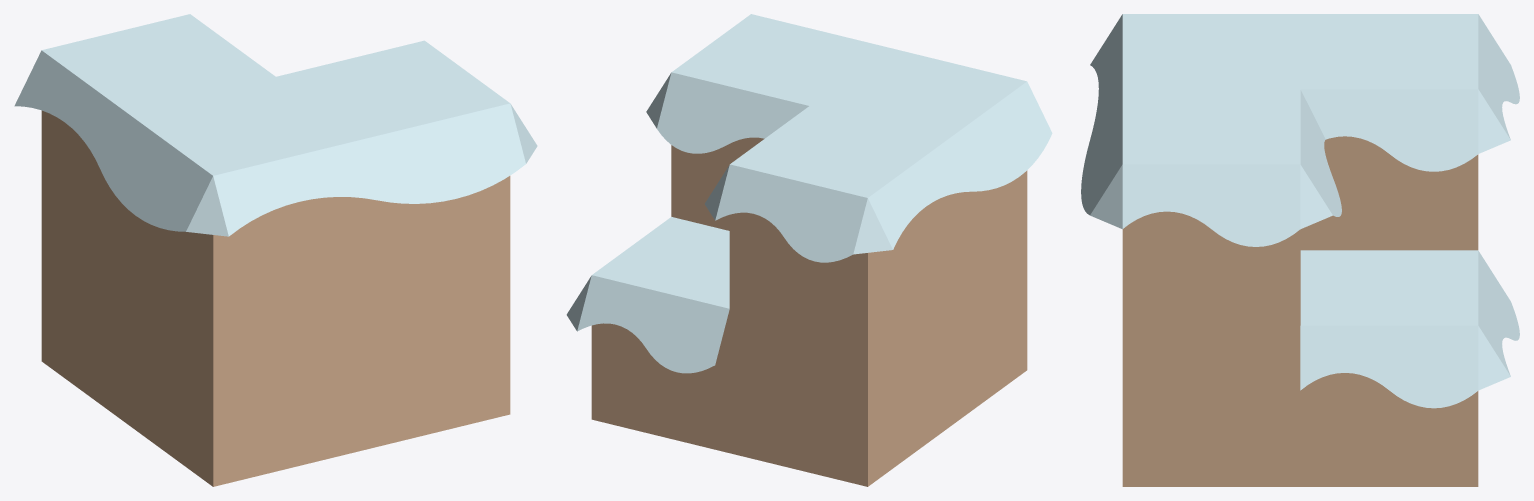
File: blockSnowLevel.glb
The picture shows the model from 3 angles, left to right: view 1: azimuth 30°, elevation 25°; view 2: azimuth 150°, elevation 25°; view 3: azimuth 270°, elevation 25°; orthographic projection. The views are drawn at different scales.
Parts seen in each view (by area): view 1: blockSnowLevel(Clone); view 2: blockSnowLevel(Clone); view 3: blockSnowLevel(Clone).
Boxes of the visible parts, x1,y1,x2,y2 form: blockSnowLevel(Clone): (14, 14, 537, 486); blockSnowLevel(Clone): (566, 14, 1052, 486); blockSnowLevel(Clone): (1081, 14, 1519, 486).
Size of the model in its own units: 1.23 by 1 by 1.23.
